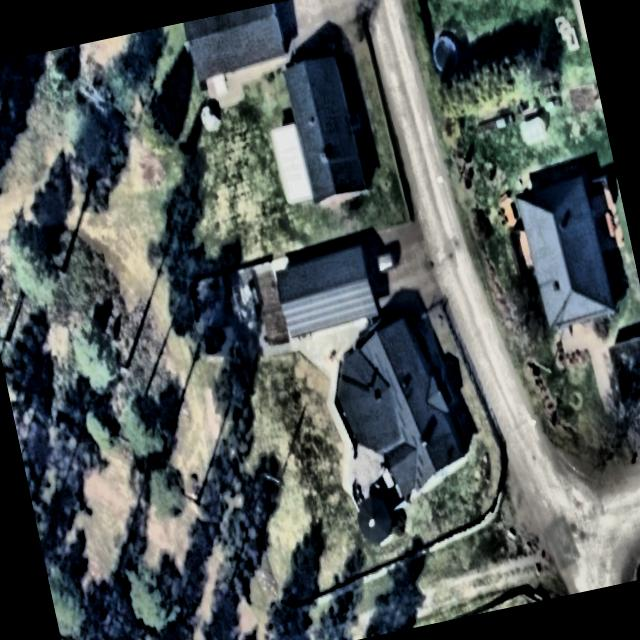roof_pv: (280, 281, 380, 337)
